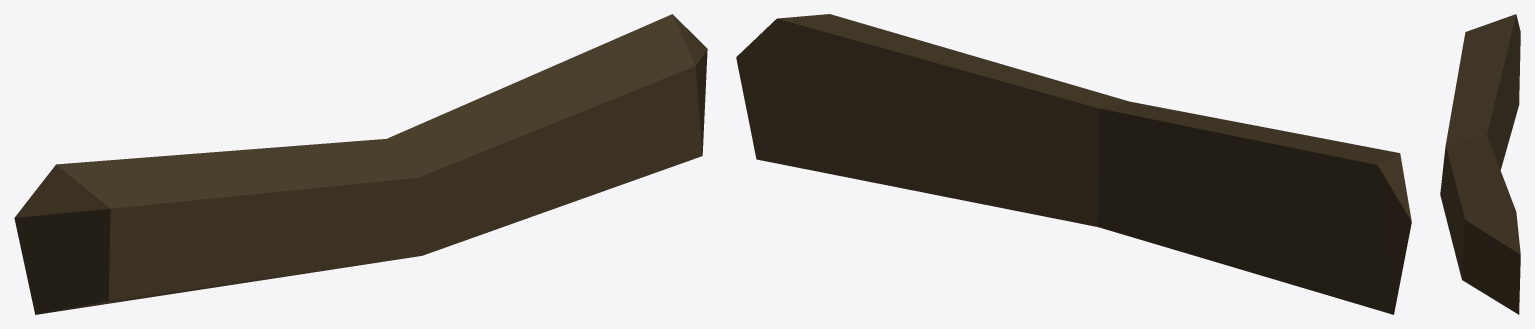
Rendered from Chr_Eyebrow_Male_01_Static.fbx.
3 views of the same model, side by side, from view 1: azimuth 30°, elevation 25°; view 2: azimuth 150°, elevation 25°; view 3: azimuth 270°, elevation 25° (orthographic). The views are drawn at different scales.
Visible parts, largest first — view 1: Chr_Eyebrow_Male_01_Static; view 2: Chr_Eyebrow_Male_01_Static; view 3: Chr_Eyebrow_Male_01_Static.
Boxes of the visible parts, x1,y1,x2,y2 form: Chr_Eyebrow_Male_01_Static: (14, 14, 707, 314); Chr_Eyebrow_Male_01_Static: (736, 14, 1411, 314); Chr_Eyebrow_Male_01_Static: (1440, 14, 1520, 314).
Bounding box in the file's own units: 0.2187 × 0.0465 × 0.0335.
